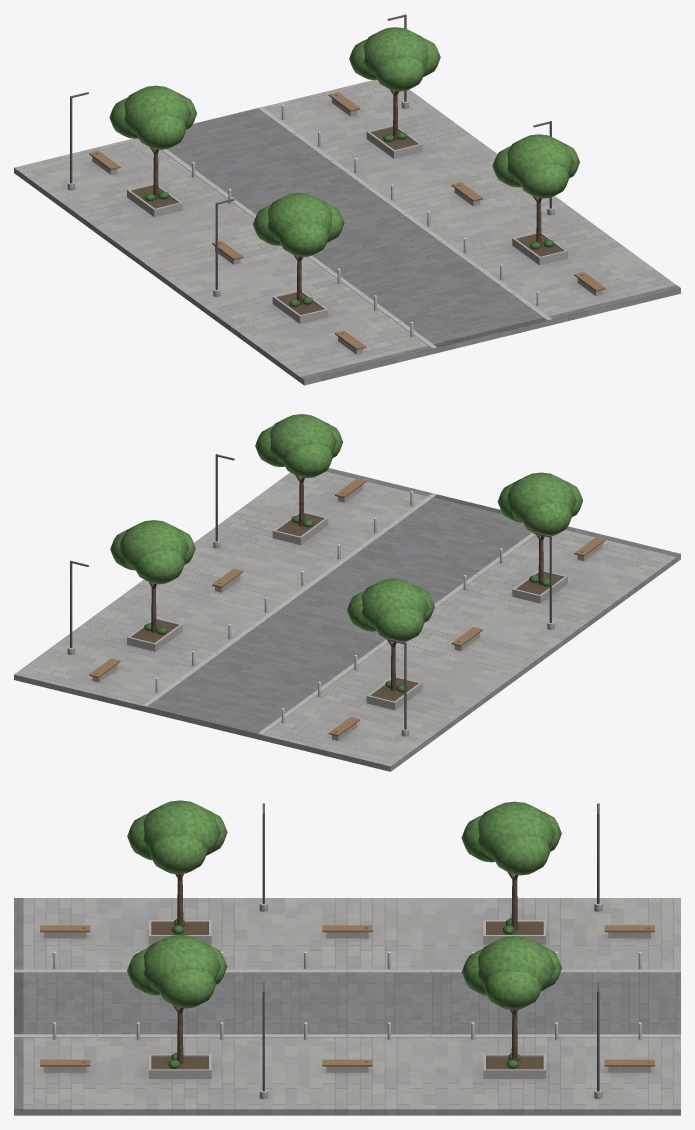
File: IlsanPlaza01_LOD1.fbx
The picture shows the model from 3 angles, top to bottom: view 1: azimuth 30°, elevation 25°; view 2: azimuth 150°, elevation 25°; view 3: azimuth 270°, elevation 25°; orthographic projection. The views are drawn at different scales.
Parts seen in each view (by area): view 1: IlsanPlaza01_LOD1; view 2: IlsanPlaza01_LOD1; view 3: IlsanPlaza01_LOD1.
Boxes of the visible parts, x1,y1,x2,y2 form: IlsanPlaza01_LOD1: (14,14,680,385); IlsanPlaza01_LOD1: (14,414,680,771); IlsanPlaza01_LOD1: (14,800,680,1115).
Bounding box in the file's own units: 23.9 × 7.22 × 31.9.
Materials: 1 (1 with a texture image).
